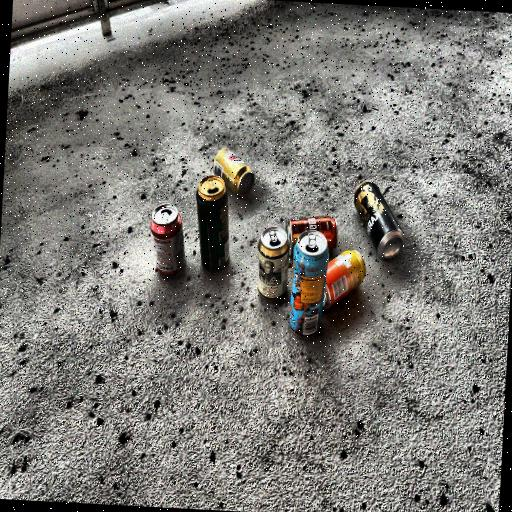A_LeCoq: (199, 133, 260, 205)
karhu: (342, 173, 412, 266), (196, 172, 238, 281)
koff: (142, 200, 191, 291)
sandels: (254, 228, 291, 304)
